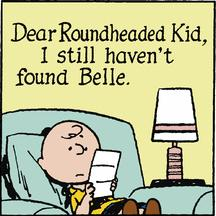charlie: (38, 120, 162, 216)
